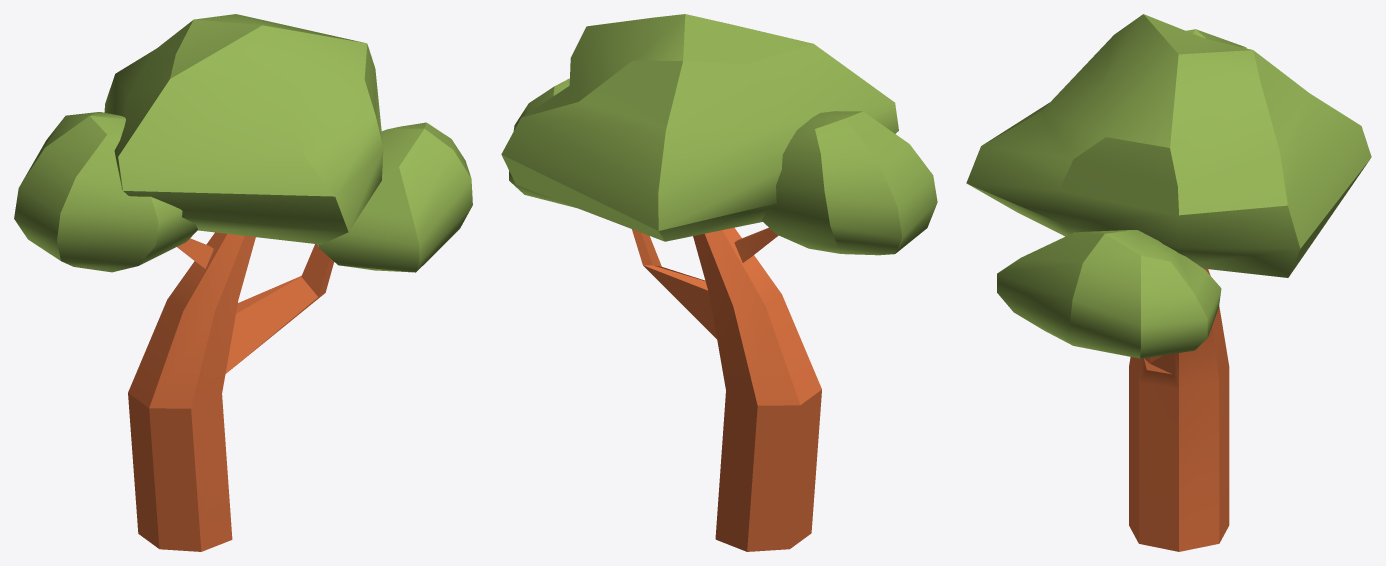
Rendered from tree2Organic.fbx.
The picture shows the model from 3 angles, left to right: view 1: azimuth 30°, elevation 25°; view 2: azimuth 150°, elevation 25°; view 3: azimuth 270°, elevation 25°; orthographic projection. The views are drawn at different scales.
Parts seen in each view (by area): view 1: PrototypeLevelConcept:pSphere1, PrototypeLevelConcept:trunk, PrototypeLevelConcept:pSphere2, PrototypeLevelConcept:pSphere3; view 2: PrototypeLevelConcept:pSphere1, PrototypeLevelConcept:trunk, PrototypeLevelConcept:pSphere2, PrototypeLevelConcept:pSphere3; view 3: PrototypeLevelConcept:pSphere1, PrototypeLevelConcept:pSphere3, PrototypeLevelConcept:trunk.
Boxes of the visible parts, x1,y1,x2,y2 form: PrototypeLevelConcept:pSphere1: (104,14,383,244); PrototypeLevelConcept:trunk: (128,232,333,551); PrototypeLevelConcept:pSphere2: (14,112,197,272); PrototypeLevelConcept:pSphere3: (317,122,472,272); PrototypeLevelConcept:pSphere1: (501,14,898,241); PrototypeLevelConcept:trunk: (632,227,821,551); PrototypeLevelConcept:pSphere2: (762,111,937,255); PrototypeLevelConcept:pSphere3: (509,78,575,207); PrototypeLevelConcept:pSphere1: (966,14,1371,277); PrototypeLevelConcept:pSphere3: (997,230,1221,358); PrototypeLevelConcept:trunk: (1129,268,1229,551).
Bounding box in the file's own units: 280 × 315 × 225.
